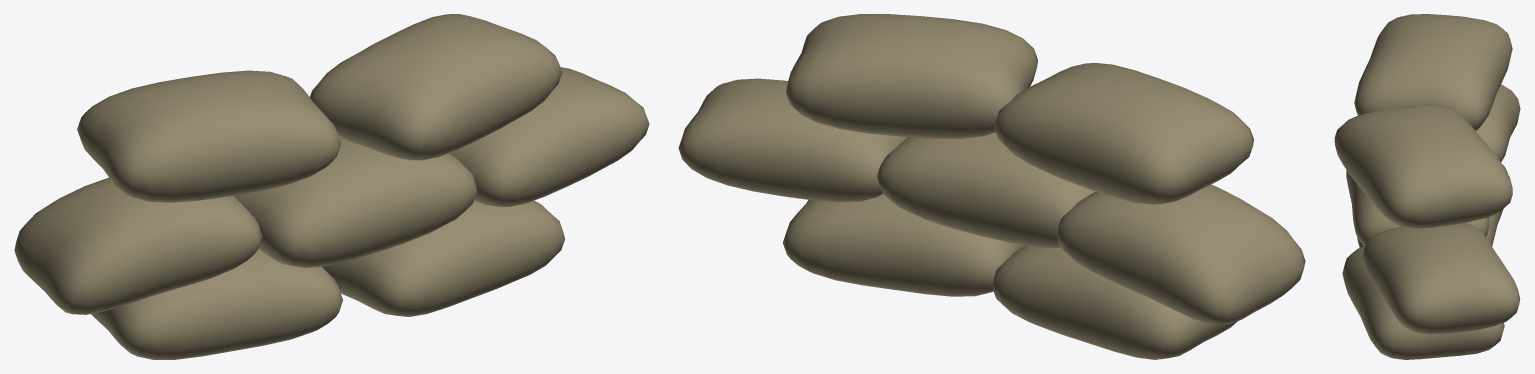
Rendered from Sack Trench Small.glb.
3 renders of one model, left to right at view 1: azimuth 30°, elevation 25°; view 2: azimuth 150°, elevation 25°; view 3: azimuth 270°, elevation 25°, orthographic. The views are drawn at different scales.
Parts seen in each view (by area): view 1: Sack Trench Small; view 2: Sack Trench Small; view 3: Sack Trench Small.
Part boxes in pixels (x1,y1,x2,y2): Sack Trench Small: [14, 14, 649, 359]; Sack Trench Small: [678, 14, 1305, 359]; Sack Trench Small: [1334, 14, 1520, 359].
Size of the model in its own units: 2.32 by 0.9322 by 0.7472.
